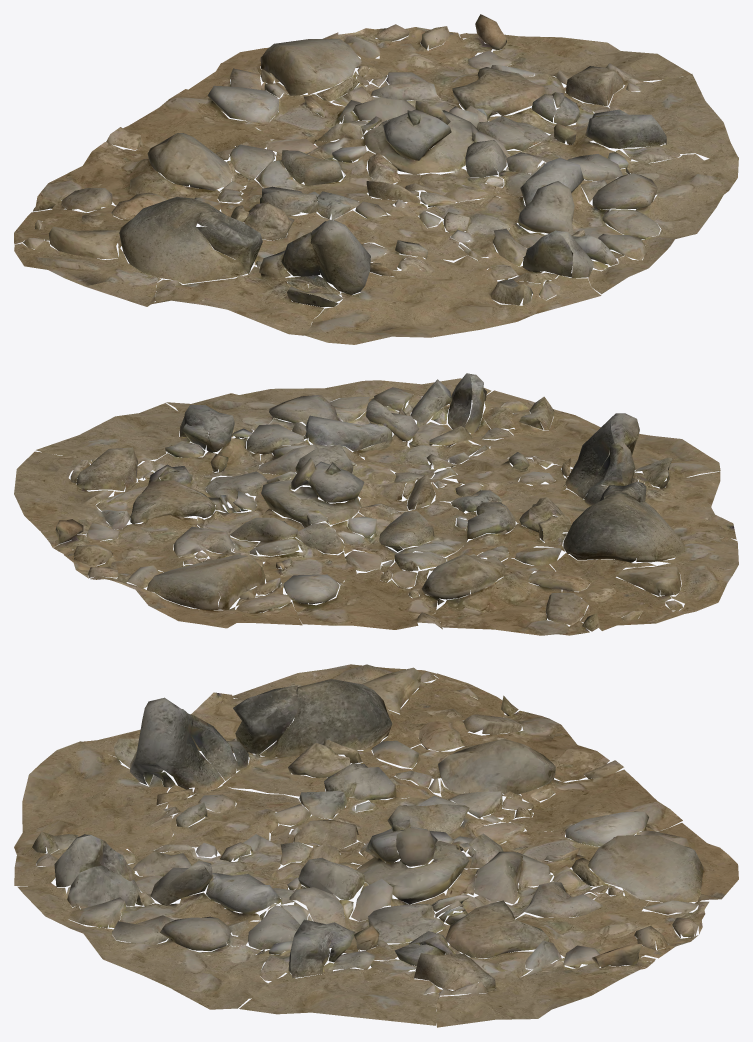
The model's file is sand_rocks_small_01.glb.
3 views of the same model, one above another, from view 1: azimuth 30°, elevation 25°; view 2: azimuth 150°, elevation 25°; view 3: azimuth 270°, elevation 25° (orthographic). The views are drawn at different scales.
Visible parts, largest first — view 1: Scanned mineral patch; view 2: Scanned mineral patch; view 3: Scanned mineral patch.
Part boxes in pixels (left/top/right/bottom): Scanned mineral patch: left=14, top=14, right=738, bottom=344; Scanned mineral patch: left=14, top=373, right=738, bottom=635; Scanned mineral patch: left=14, top=664, right=738, bottom=1027.
Bounding box in the file's own units: 1 × 0.1148 × 0.8383.
1 material, 1 textured.
